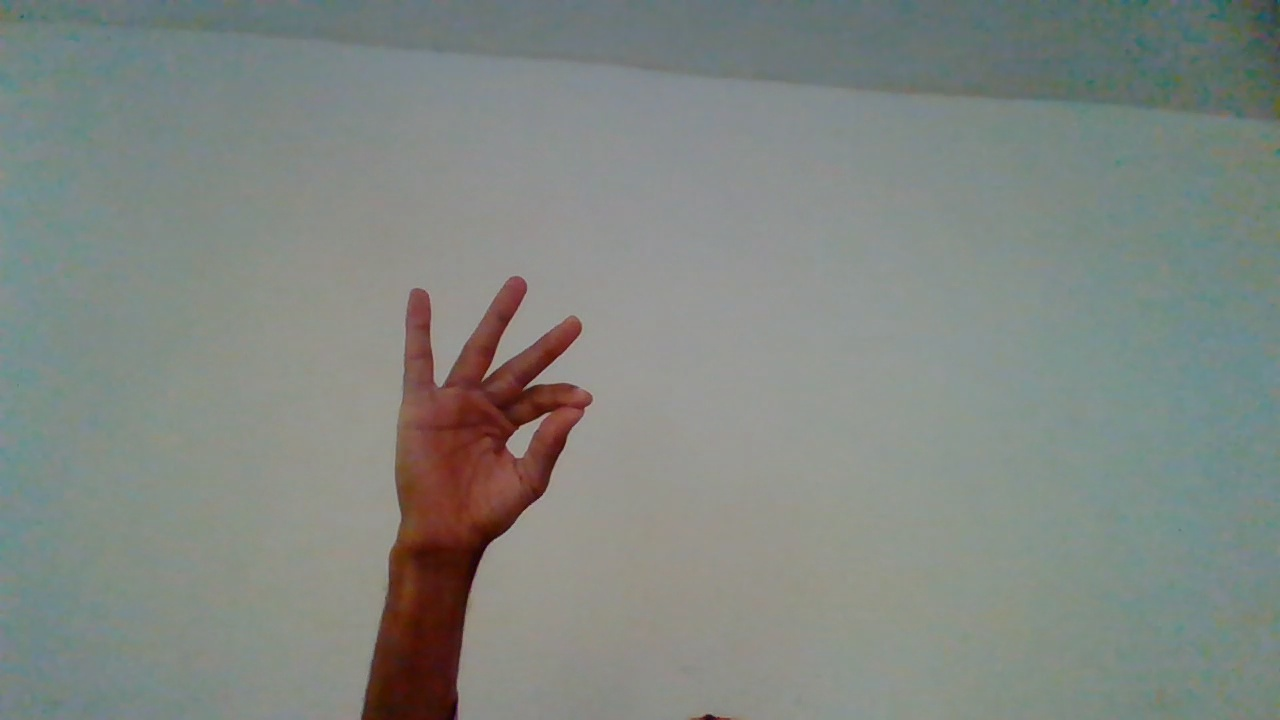le: (389, 266, 595, 647)
